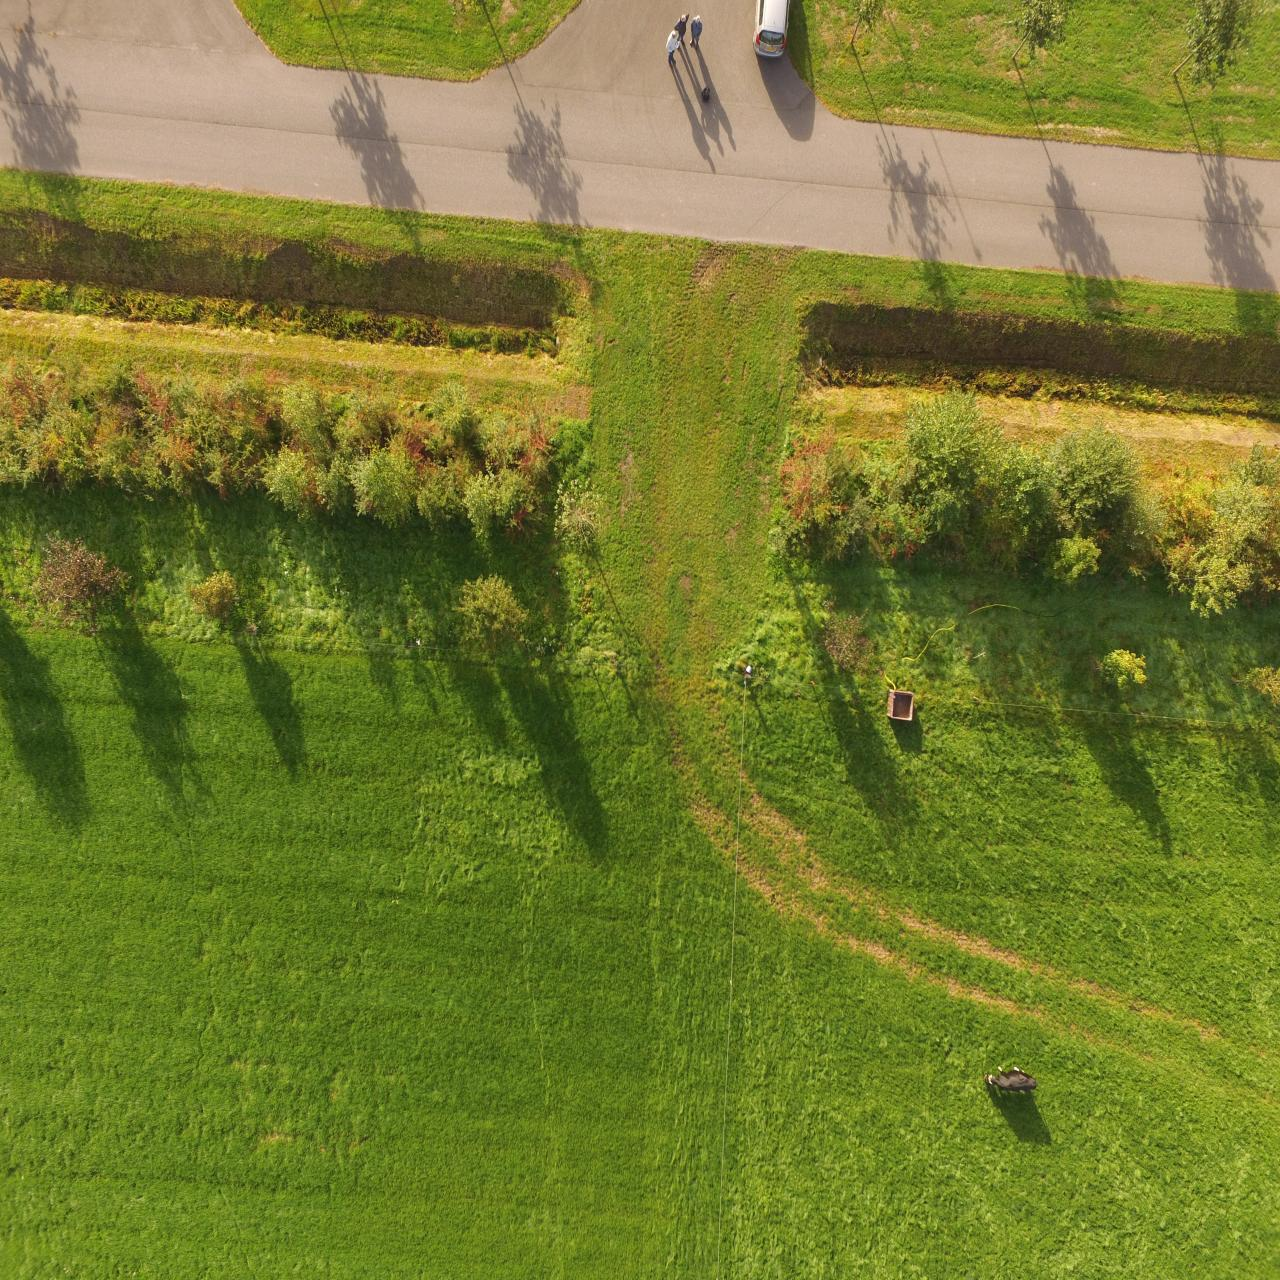cow: (980, 1063, 1039, 1097)
